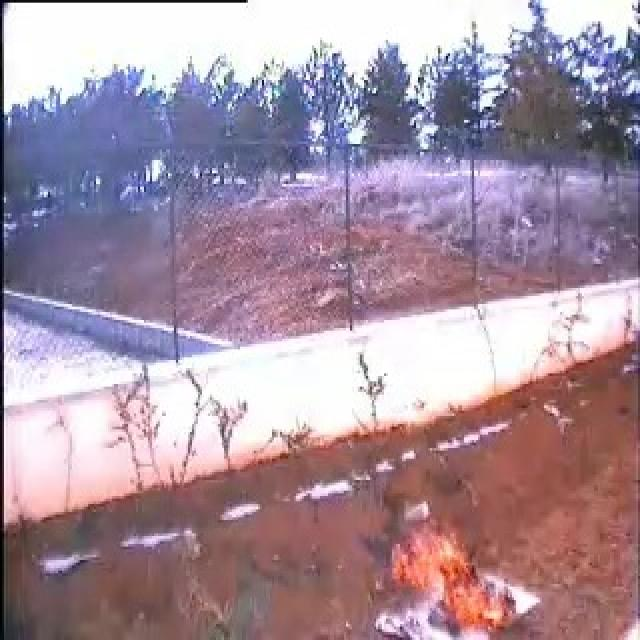fire: (399, 531, 514, 640)
smoke: (373, 496, 396, 574)
